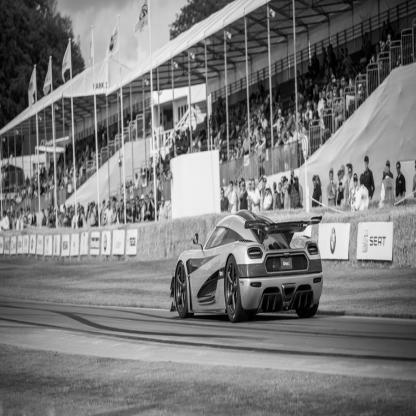car: (157, 208, 329, 320)
